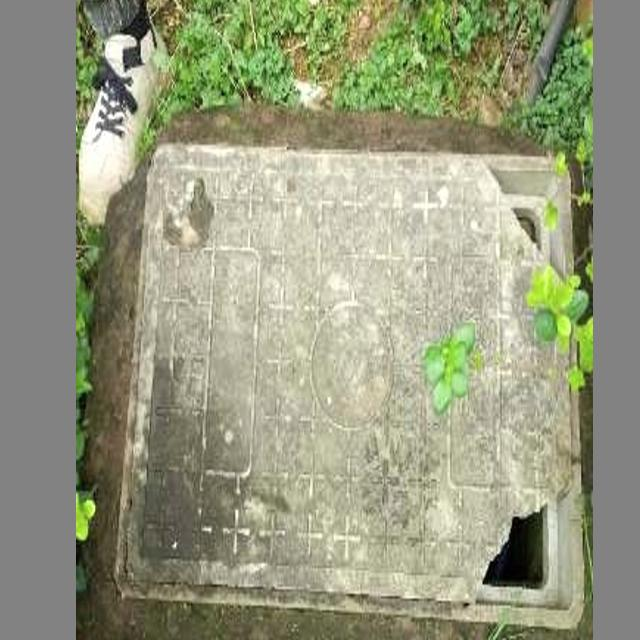broke: (122, 158, 574, 596)
